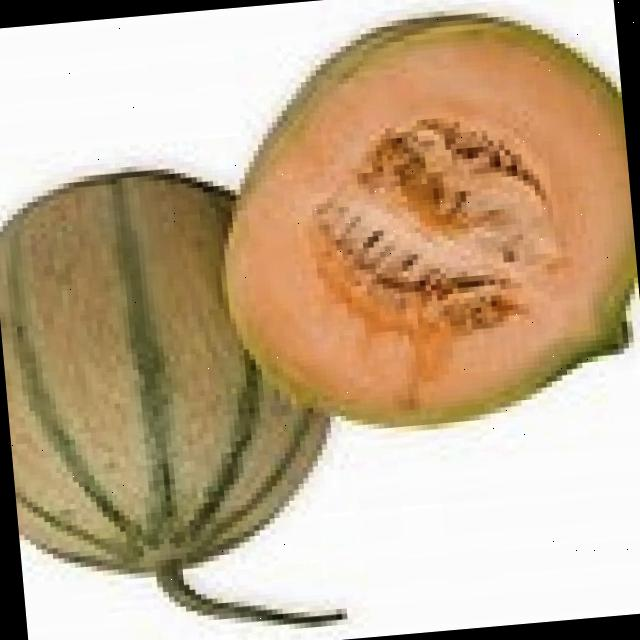Hami Melon: (196, 0, 640, 438), (0, 163, 337, 586)
